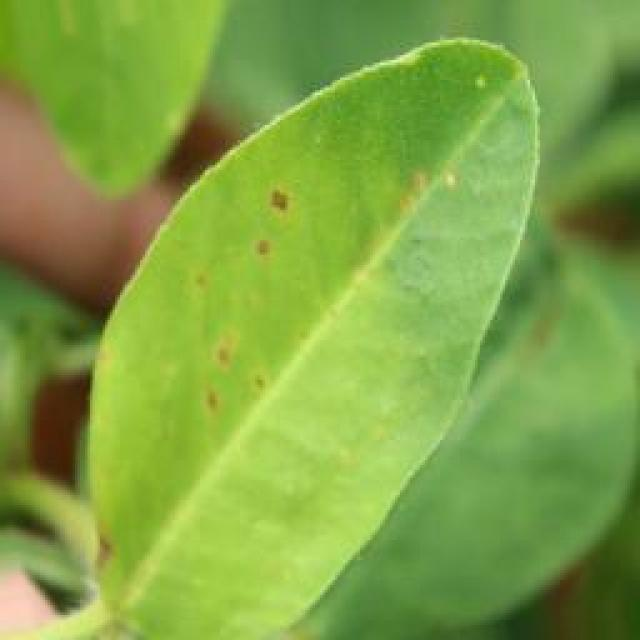Sigatoka: (156, 298, 299, 435), (235, 155, 312, 288), (378, 149, 462, 241), (72, 499, 138, 580), (187, 255, 236, 321)
